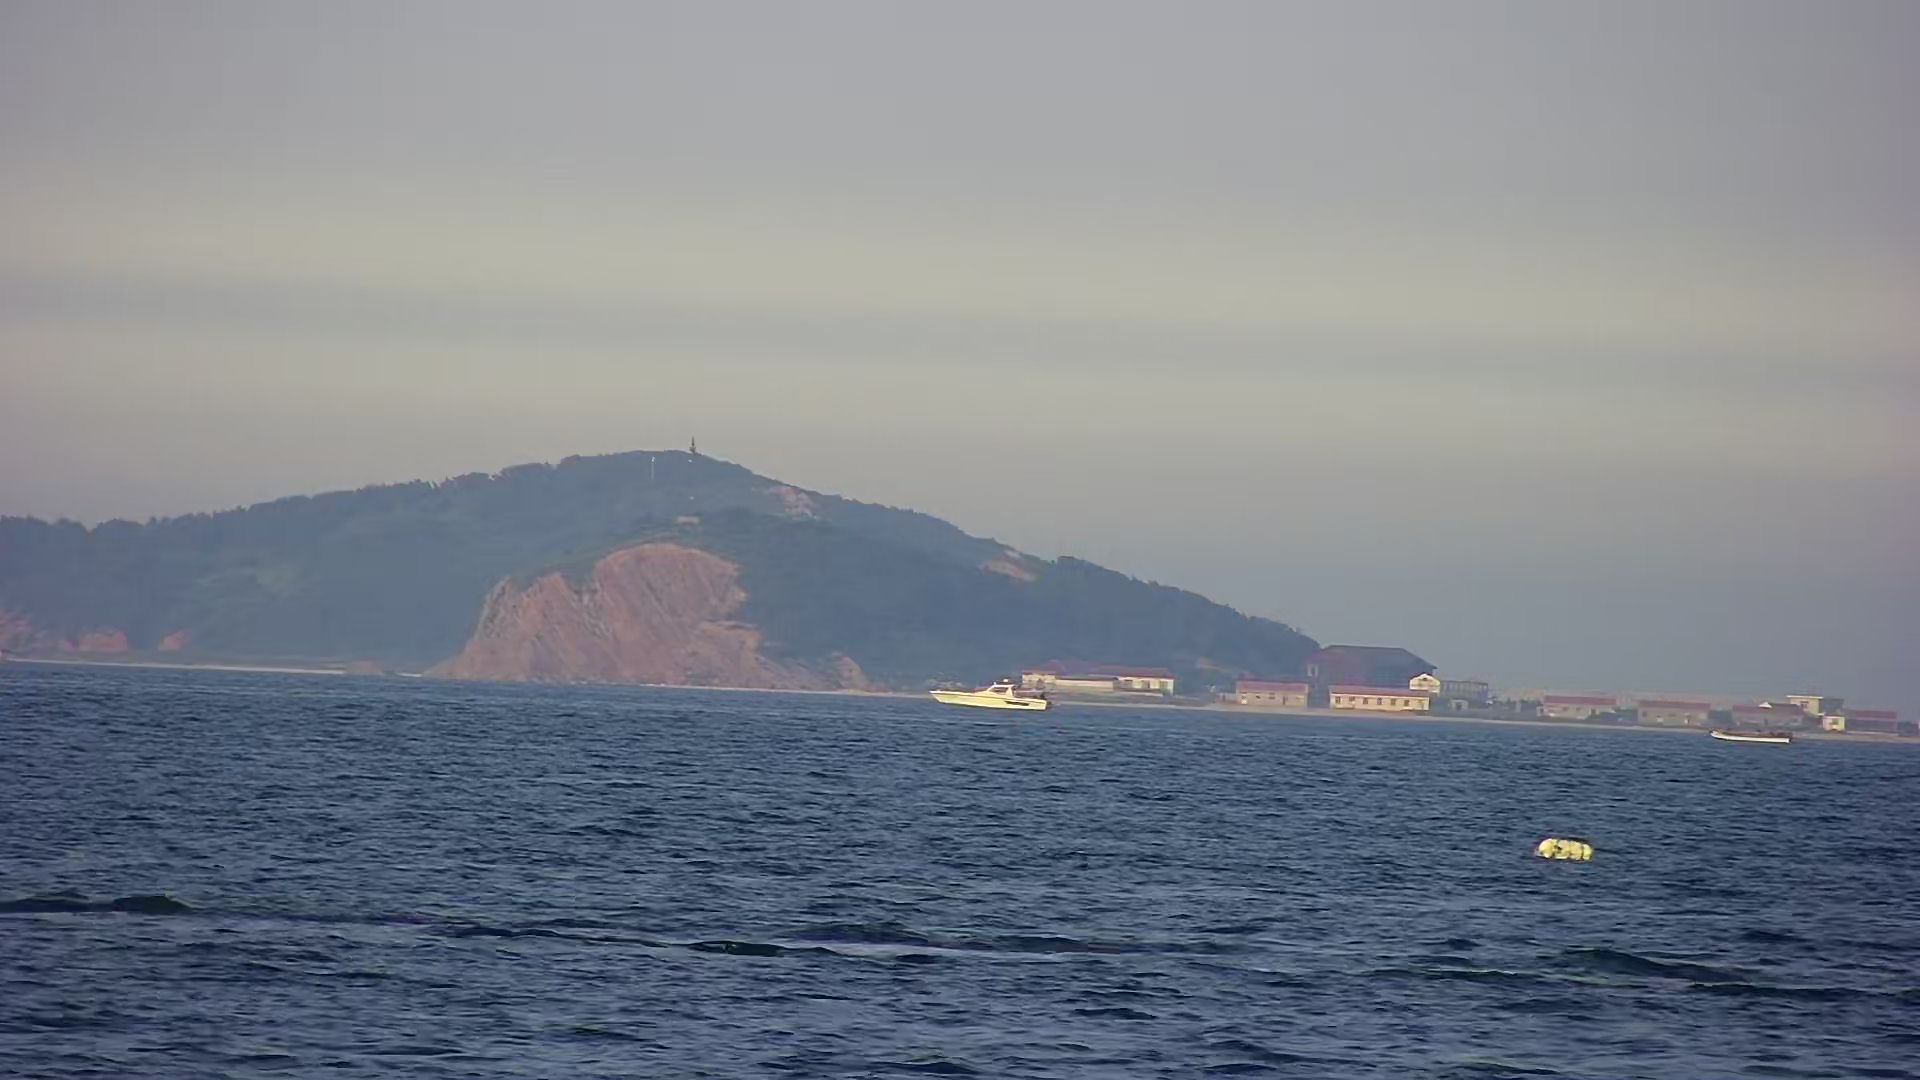boat: (928, 673, 1048, 716), (1712, 723, 1793, 748)
rubbish: (1540, 831, 1594, 865)
